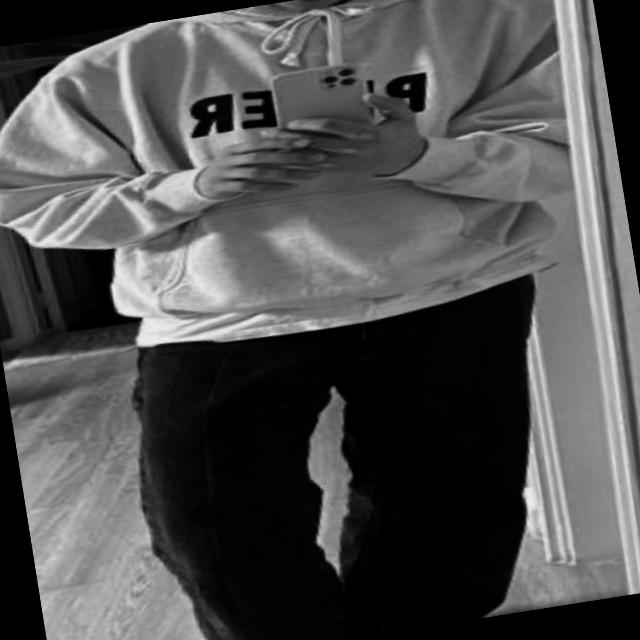denimpants: (126, 275, 591, 640)
hoodies: (0, 0, 597, 373)
